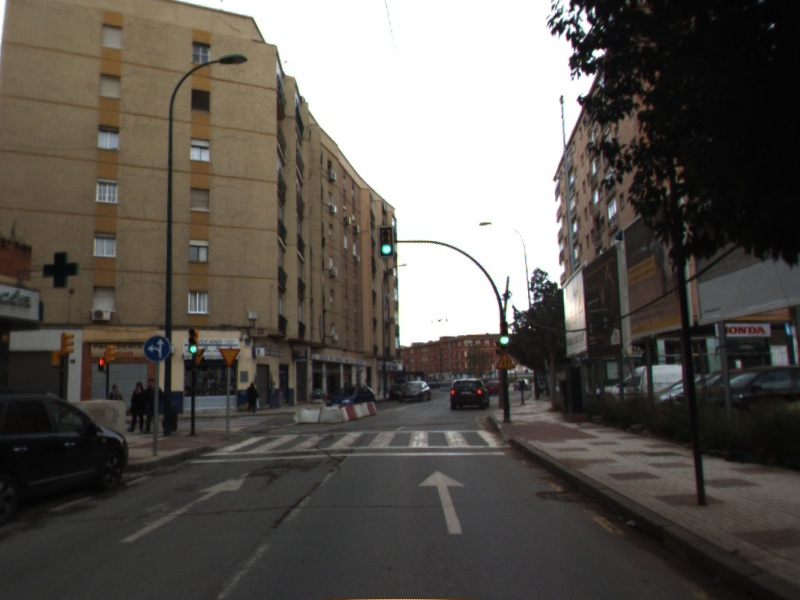STRAIGHT: (119, 468, 252, 545), (415, 467, 466, 537)
